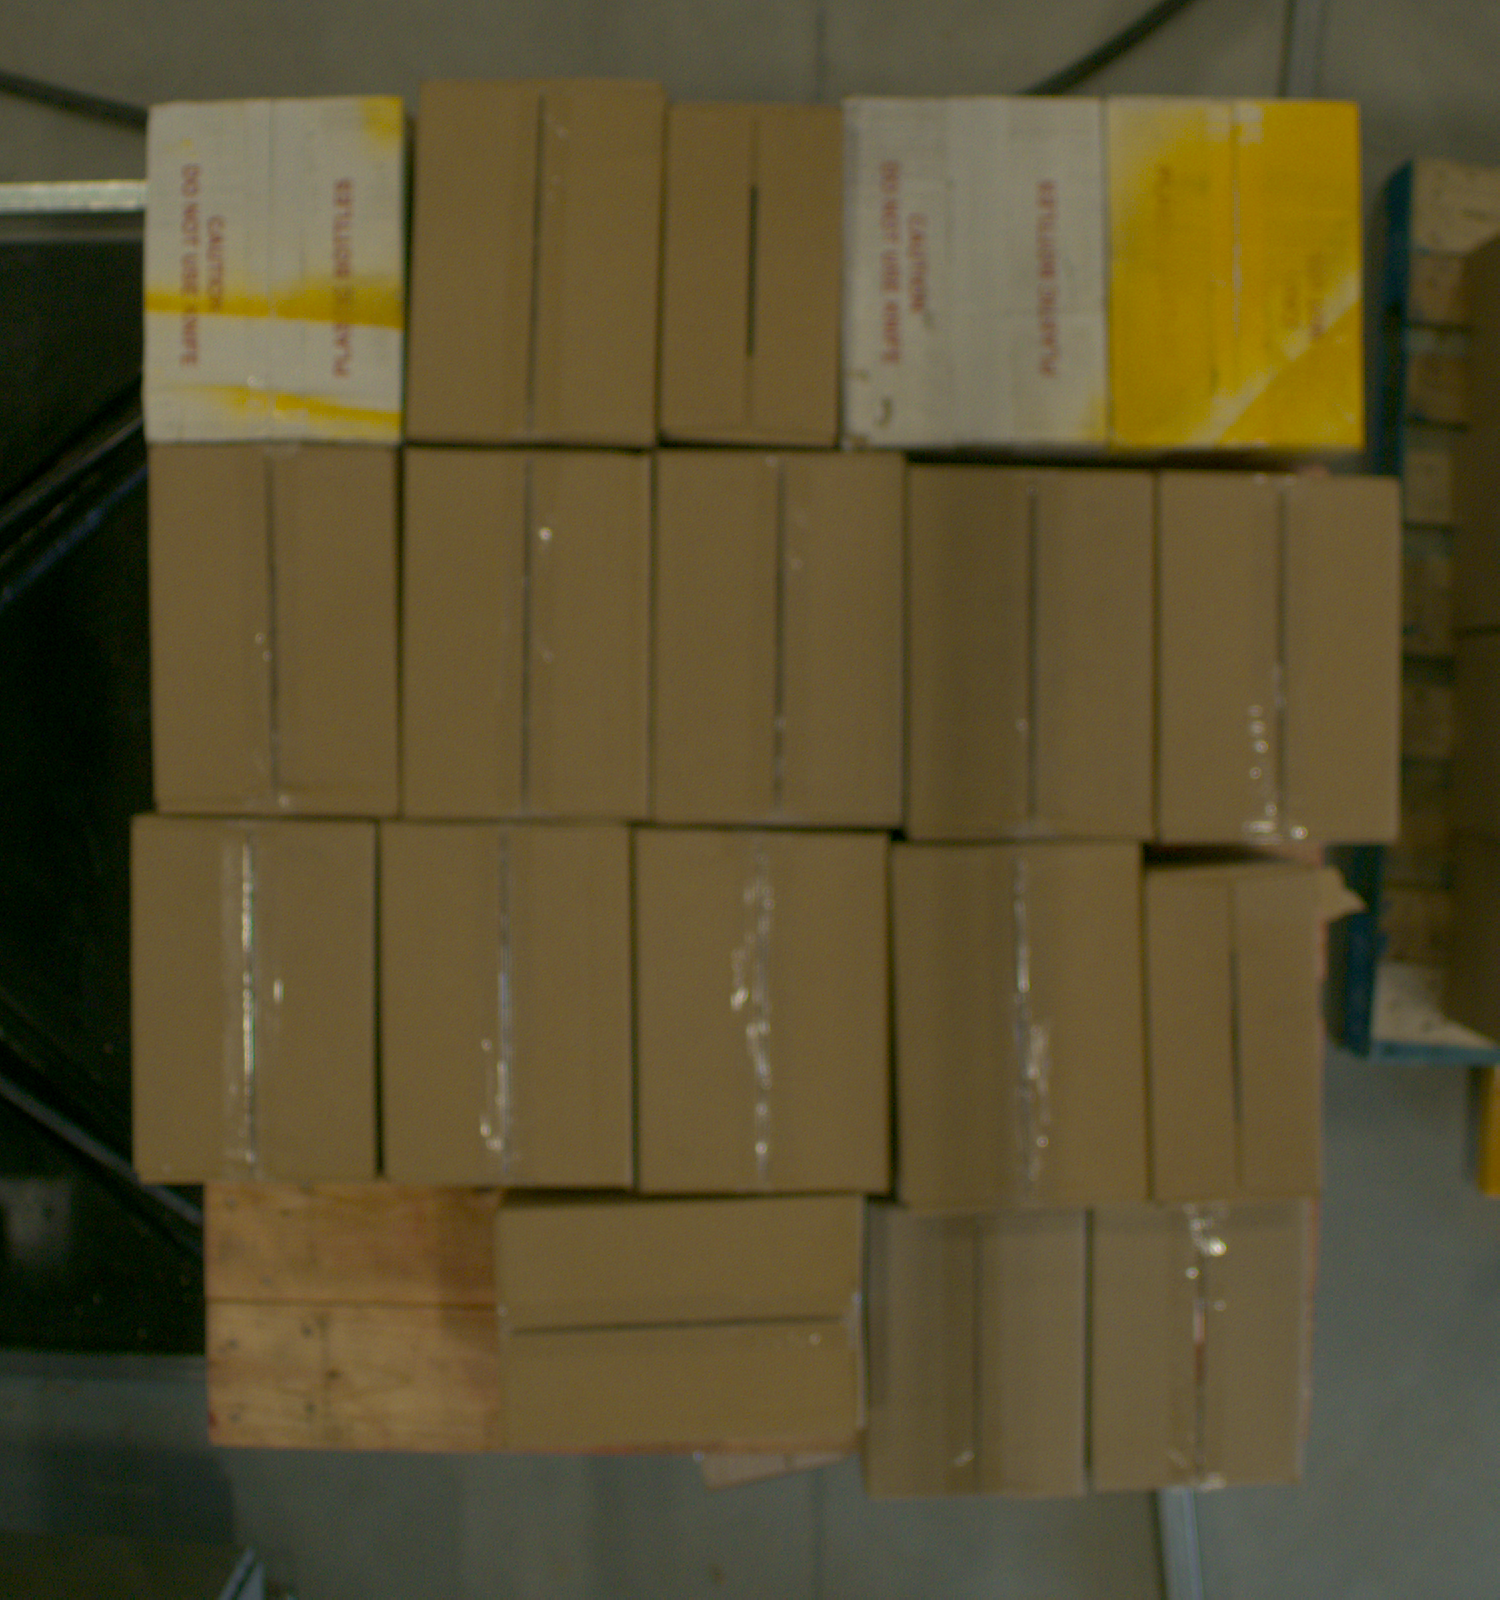box top: (651, 454, 905, 826), (410, 78, 664, 443), (908, 469, 1156, 839), (144, 97, 405, 445), (403, 450, 651, 815), (639, 836, 891, 1194), (844, 97, 1102, 447), (155, 453, 405, 812), (500, 1200, 861, 1446), (897, 846, 1146, 1202), (381, 827, 629, 1186), (1111, 99, 1363, 450), (1162, 475, 1398, 843), (133, 823, 374, 1183), (864, 1207, 1088, 1501), (661, 103, 844, 443), (1148, 870, 1325, 1200), (1100, 1207, 1304, 1487)
